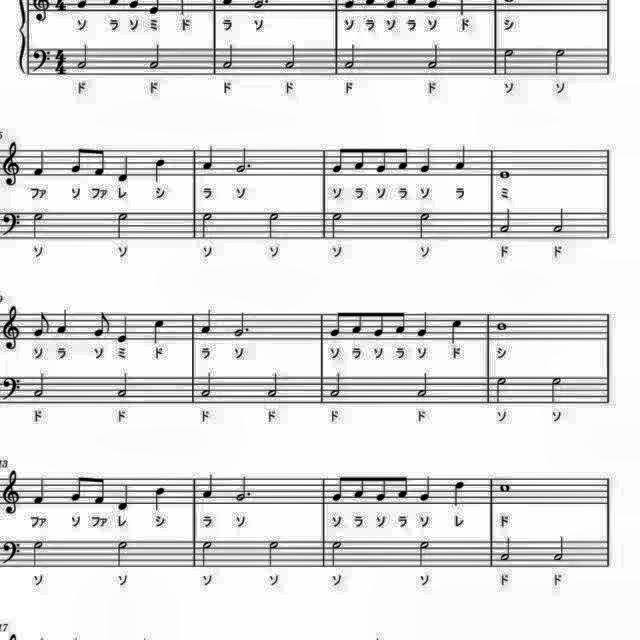Bass-clef: (0, 538, 24, 568), (0, 208, 24, 238), (0, 373, 24, 402), (31, 46, 53, 76)
Eighth-note: (91, 308, 113, 339), (30, 308, 51, 339), (69, 472, 87, 506), (330, 471, 348, 505), (69, 144, 87, 176), (326, 308, 344, 340), (374, 472, 391, 504), (90, 145, 106, 179), (374, 144, 390, 176), (92, 474, 108, 506), (332, 143, 348, 175), (370, 310, 386, 342), (349, 307, 366, 337), (352, 471, 368, 502), (352, 144, 368, 174), (392, 307, 408, 337), (394, 473, 410, 503), (394, 144, 410, 174)
Full-note: (494, 319, 510, 333), (496, 481, 512, 495), (496, 168, 512, 182)
Half-dot: (232, 144, 252, 176), (232, 308, 252, 339), (234, 474, 254, 504)
Half-note: (550, 46, 570, 78), (115, 208, 133, 242), (116, 368, 136, 398), (550, 205, 570, 235), (550, 535, 570, 565), (425, 42, 443, 74), (416, 538, 434, 570), (146, 42, 164, 74), (199, 538, 217, 570), (115, 540, 133, 572), (199, 210, 217, 242), (415, 210, 433, 242), (492, 374, 510, 406), (549, 372, 567, 404), (499, 46, 517, 78), (327, 210, 345, 242), (265, 538, 283, 570), (220, 42, 237, 74), (329, 538, 346, 570), (29, 208, 46, 240), (342, 43, 360, 73), (327, 370, 345, 400), (415, 370, 433, 400), (497, 205, 515, 235), (74, 42, 90, 74), (282, 42, 298, 74), (30, 536, 46, 568), (266, 210, 282, 242), (200, 370, 217, 400), (497, 536, 515, 564), (266, 370, 282, 400), (32, 371, 48, 401)
Quarter-note: (28, 476, 48, 508), (30, 146, 50, 178), (114, 153, 132, 185), (450, 478, 468, 510), (200, 471, 218, 501), (55, 307, 73, 337), (198, 307, 216, 337), (414, 309, 432, 339), (151, 318, 169, 347), (114, 312, 130, 344), (115, 482, 132, 512), (418, 146, 434, 177), (153, 483, 170, 512), (202, 143, 218, 173), (418, 474, 434, 504), (452, 142, 468, 172), (448, 318, 464, 347), (154, 156, 170, 184)
Treble-clef: (0, 140, 24, 192), (0, 468, 24, 518), (1, 304, 23, 356)
